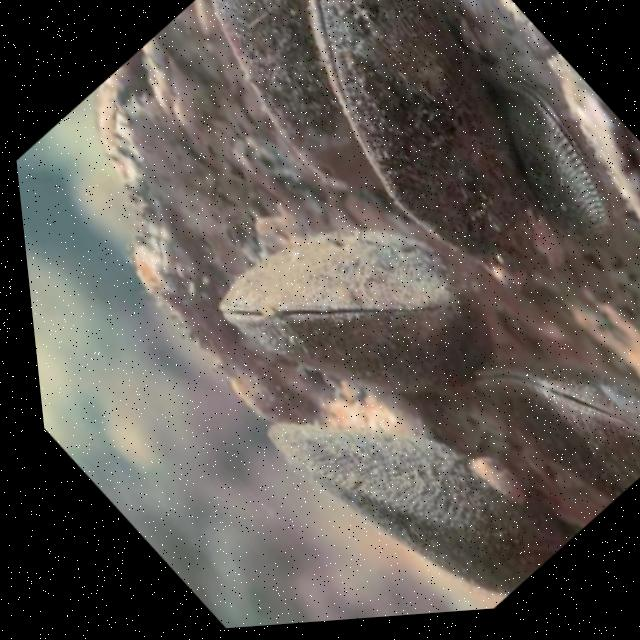Oyster-Closed: (310, 0, 539, 273), (220, 227, 495, 391), (471, 356, 640, 498), (495, 76, 614, 245)
Oyster-Indeterminate: (265, 420, 553, 593), (212, 0, 377, 185)
